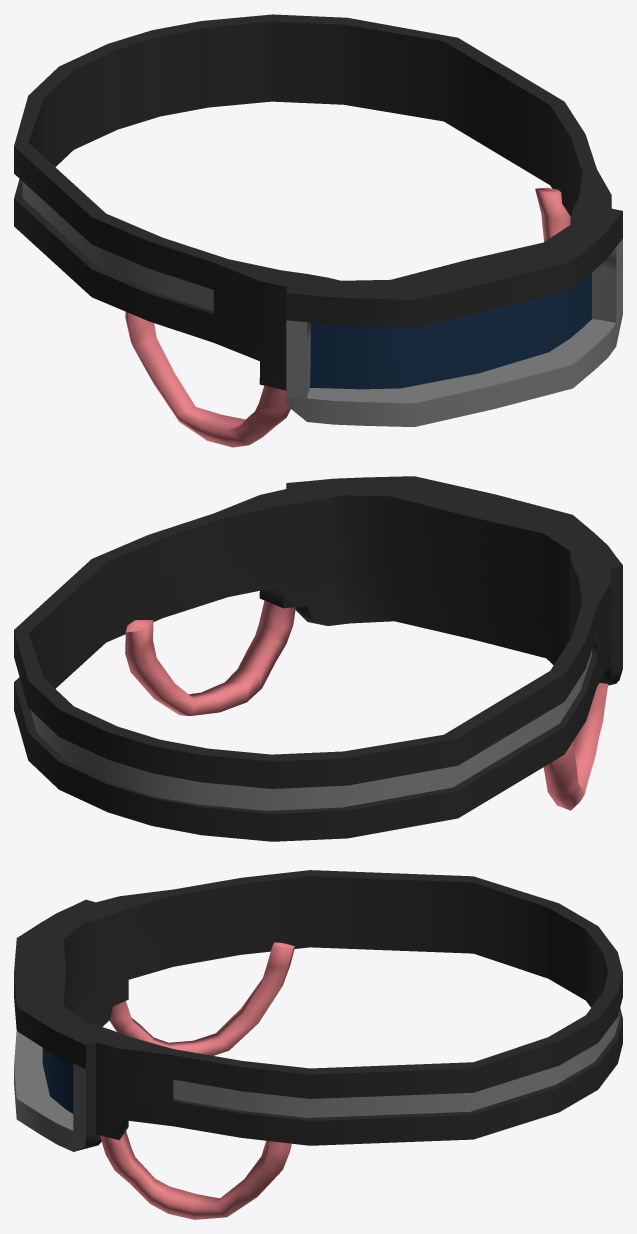
The model's file is xeKF420.glb.
3 views of the same model, one above another, from view 1: azimuth 30°, elevation 25°; view 2: azimuth 150°, elevation 25°; view 3: azimuth 270°, elevation 25° (orthographic). The views are drawn at different scales.
Visible parts, largest first — view 1: xeKF420; view 2: xeKF420; view 3: xeKF420.
Part boxes in pixels (x1,y1,x2,y2): xeKF420: (14,14,622,447); xeKF420: (14,476,622,841); xeKF420: (14,870,622,1219).
Bounding box in the file's own units: 0.6871 × 0.2616 × 0.8642.
